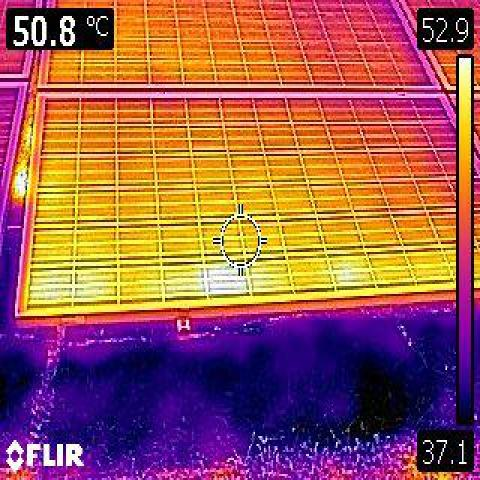fault: (208, 265, 247, 294)
